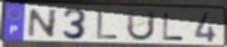3: (61, 8, 90, 42)
4: (193, 11, 219, 44)
L: (95, 10, 120, 40), (161, 11, 185, 42)
N: (26, 8, 60, 40)
U: (125, 10, 157, 43)
